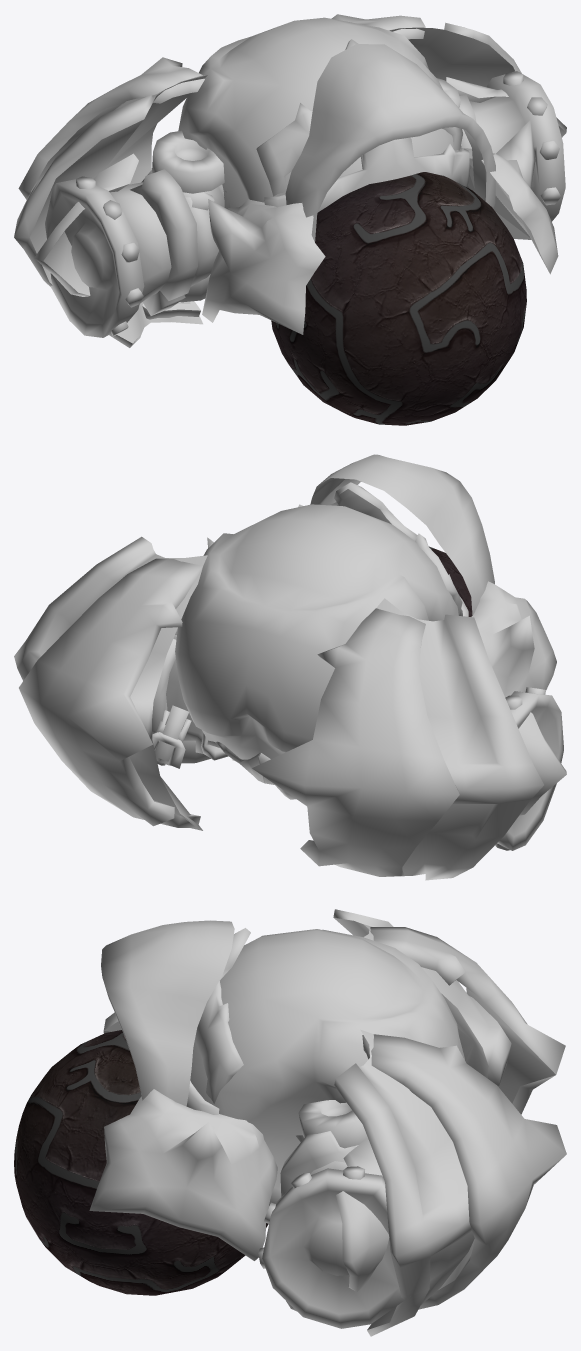
3 renders of one model, top to bottom at view 1: azimuth 30°, elevation 25°; view 2: azimuth 150°, elevation 25°; view 3: azimuth 270°, elevation 25°, orthographic. The views are drawn at different scales.
Parts seen in each view (by area): view 1: ironreaver01; view 2: ironreaver01; view 3: ironreaver01.
Boxes of the visible parts, bbox=[...] form: ironreaver01: bbox=[14, 14, 566, 425]; ironreaver01: bbox=[14, 454, 566, 880]; ironreaver01: bbox=[14, 909, 566, 1336].
Size of the model in its own units: 1.55 by 0.948 by 1.33.
